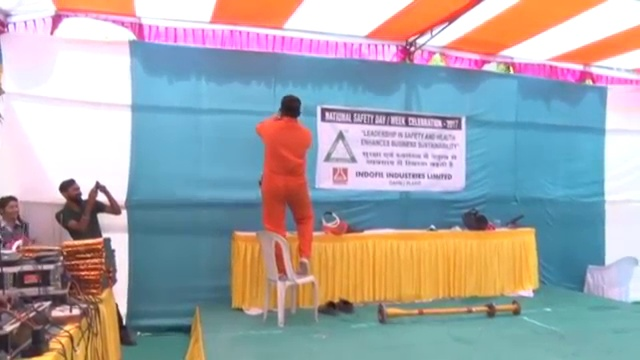helmet_off: (56, 178, 82, 205), (1, 195, 23, 225), (278, 94, 304, 119)
person: (253, 93, 315, 275), (44, 181, 127, 238), (1, 191, 34, 249)
